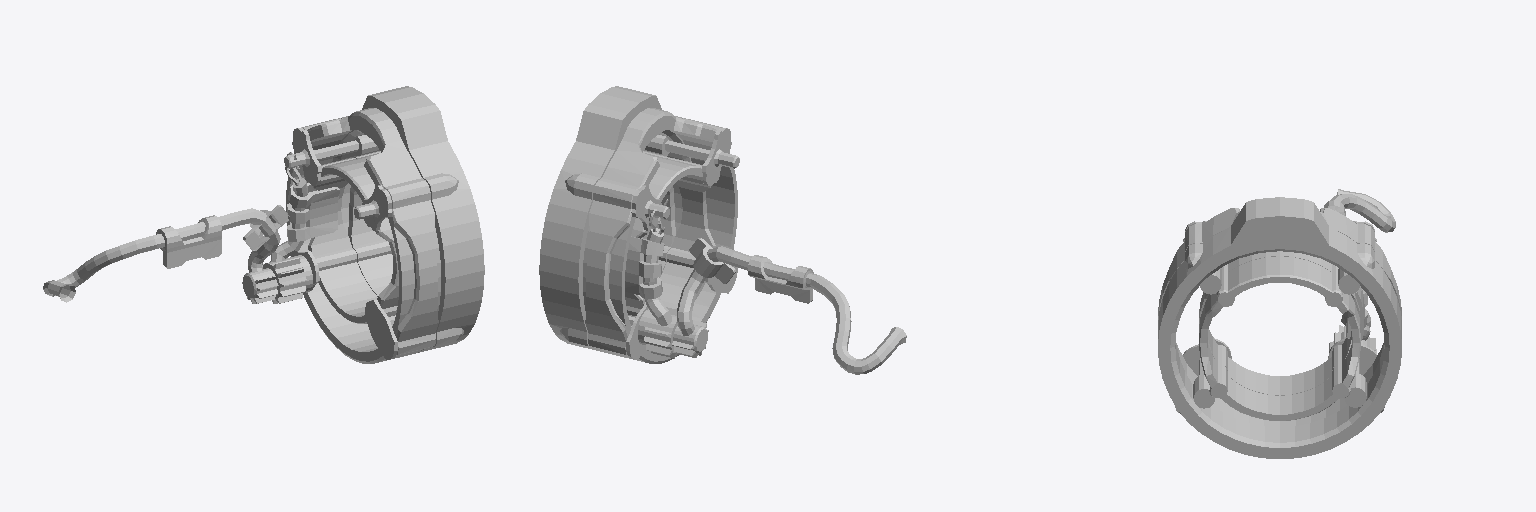
The model's file is AssaultRifles_Vladof_Body_Acc_2.obj.
3 views of the same model, side by side, from view 1: azimuth 30°, elevation 25°; view 2: azimuth 150°, elevation 25°; view 3: azimuth 270°, elevation 25° (orthographic).
Visible parts, largest first — view 1: SK_AR_VLA.057, SK_AR_VLA.061, SK_AR_VLA.058, SK_AR_VLA.059, SK_AR_VLA.065, SK_AR_VLA.052, SK_AR_VLA.053, SK_AR_VLA.067, SK_AR_VLA.060, SK_AR_VLA.056, SK_AR_VLA.063, SK_AR_VLA.054 (+1 smaller); view 2: SK_AR_VLA.057, SK_AR_VLA.061, SK_AR_VLA.058, SK_AR_VLA.059, SK_AR_VLA.065, SK_AR_VLA.052, SK_AR_VLA.053, SK_AR_VLA.056, SK_AR_VLA.054, SK_AR_VLA.060, SK_AR_VLA.055, SK_AR_VLA.070 (+1 smaller); view 3: SK_AR_VLA.061, SK_AR_VLA.058, SK_AR_VLA.057, SK_AR_VLA.059, SK_AR_VLA.066, SK_AR_VLA.062.
Boxes of the visible parts, <box> form: SK_AR_VLA.057: <box>286,108,440,363</box>; SK_AR_VLA.061: <box>332,86,484,352</box>; SK_AR_VLA.058: <box>308,151,398,323</box>; SK_AR_VLA.059: <box>43,208,280,302</box>; SK_AR_VLA.065: <box>242,255,312,303</box>; SK_AR_VLA.052: <box>287,183,339,241</box>; SK_AR_VLA.053: <box>156,215,221,268</box>; SK_AR_VLA.067: <box>364,300,397,359</box>; SK_AR_VLA.060: <box>284,127,321,185</box>; SK_AR_VLA.056: <box>354,185,392,230</box>; SK_AR_VLA.063: <box>314,135,379,160</box>; SK_AR_VLA.054: <box>243,205,289,250</box>; SK_AR_VLA.057: <box>583,108,737,363</box>; SK_AR_VLA.061: <box>539,86,691,352</box>; SK_AR_VLA.058: <box>625,151,715,317</box>; SK_AR_VLA.059: <box>677,246,906,374</box>; SK_AR_VLA.065: <box>638,307,708,358</box>; SK_AR_VLA.052: <box>625,236,664,299</box>; SK_AR_VLA.053: <box>748,255,813,303</box>; SK_AR_VLA.056: <box>702,127,739,185</box>; SK_AR_VLA.054: <box>689,238,735,283</box>; SK_AR_VLA.060: <box>631,185,669,230</box>; SK_AR_VLA.055: <box>644,135,709,160</box>; SK_AR_VLA.070: <box>643,228,671,325</box>; SK_AR_VLA.061: <box>1158,197,1401,458</box>; SK_AR_VLA.058: <box>1199,251,1360,420</box>; SK_AR_VLA.057: <box>1158,208,1401,426</box>; SK_AR_VLA.059: <box>1330,189,1395,327</box>; SK_AR_VLA.066: <box>1193,358,1214,408</box>; SK_AR_VLA.062: <box>1344,359,1366,407</box>.
Bounding box in the file's own units: 21.54 × 14.93 × 13.6.